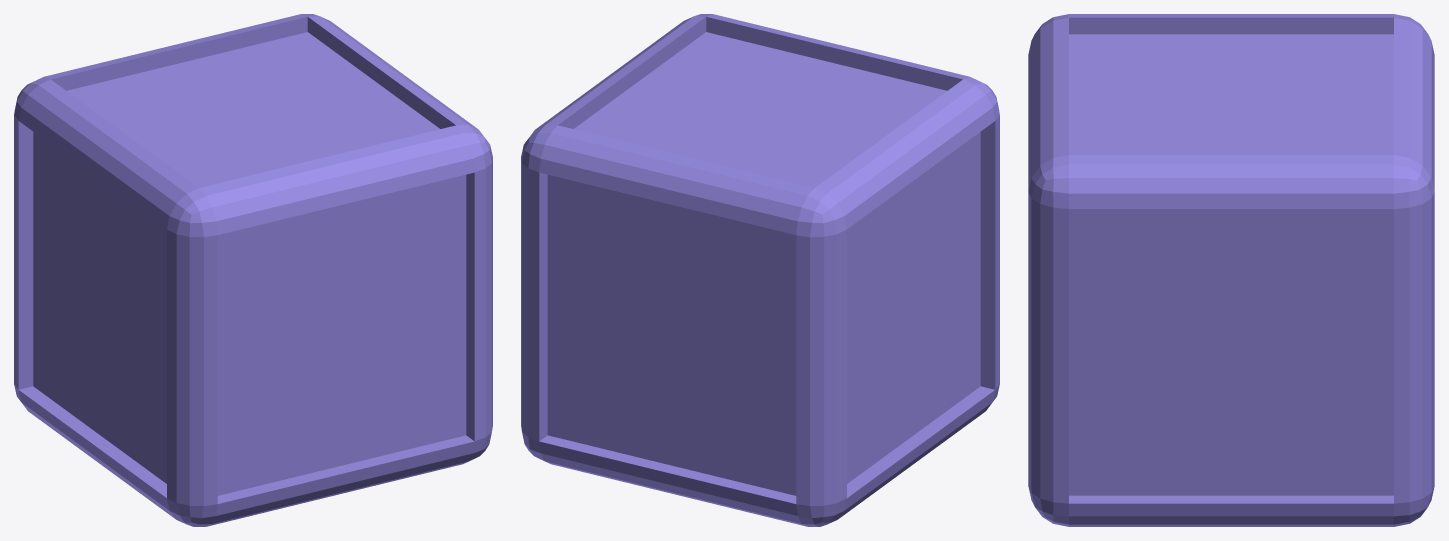
The picture shows the model from 3 angles, left to right: view 1: azimuth 30°, elevation 25°; view 2: azimuth 150°, elevation 25°; view 3: azimuth 270°, elevation 25°; orthographic projection. The views are drawn at different scales.
Parts seen in each view (by area): view 1: Cube; view 2: Cube; view 3: Cube.
Part boxes in pixels (bbox=[...]): Cube: bbox=[14, 14, 492, 526]; Cube: bbox=[521, 14, 999, 526]; Cube: bbox=[1028, 14, 1434, 526].
Size of the model in its own units: 2 by 2 by 2.
